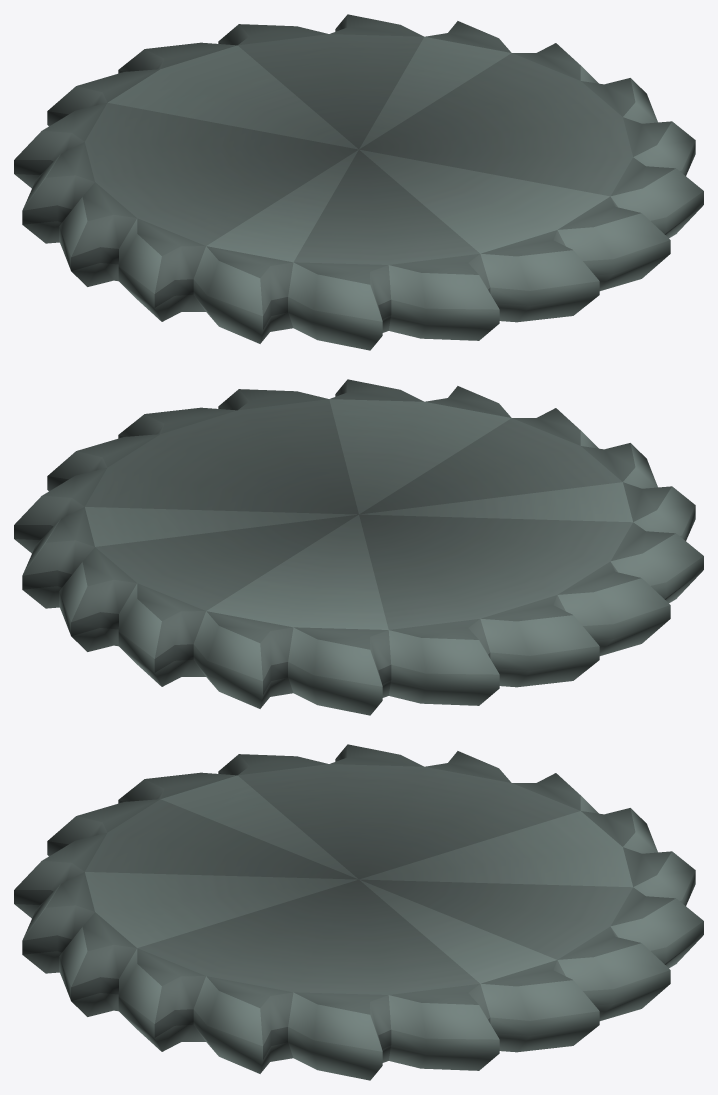
The model's file is orc_sawblade.fbx.
3 views of the same model, one above another, from view 1: azimuth 30°, elevation 25°; view 2: azimuth 150°, elevation 25°; view 3: azimuth 270°, elevation 25° (orthographic).
Visible parts, largest first — view 1: orc_sawblade; view 2: orc_sawblade; view 3: orc_sawblade.
Part boxes in pixels (bbox=[...]): orc_sawblade: bbox=[14, 14, 703, 350]; orc_sawblade: bbox=[14, 379, 703, 715]; orc_sawblade: bbox=[14, 744, 703, 1080].
Size of the model in its own units: 399 by 41.92 by 398.
